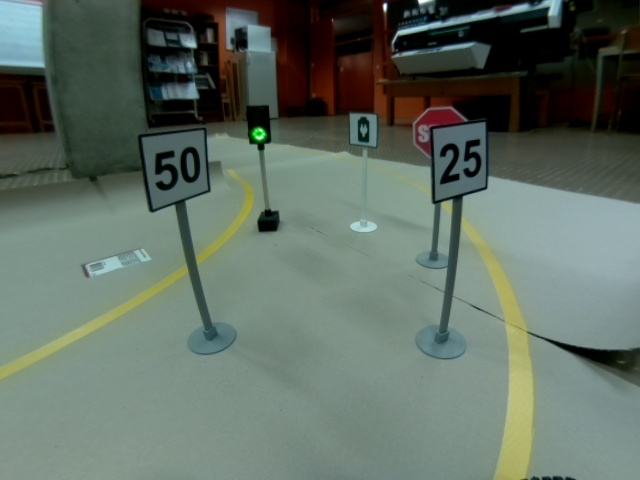battery: (347, 110, 380, 150)
speed25: (429, 118, 490, 207)
speed50: (136, 126, 213, 216)
stop: (413, 105, 469, 163)
traffic light: (244, 104, 275, 147)
